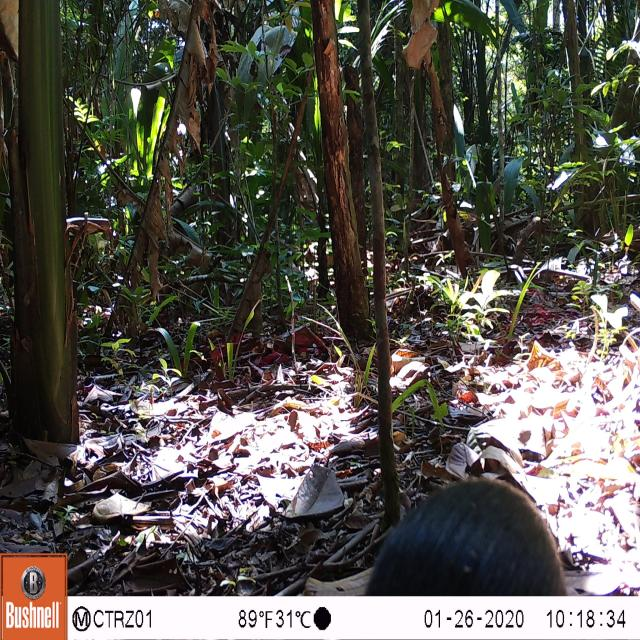Black Agouti: (344, 460, 573, 598)
